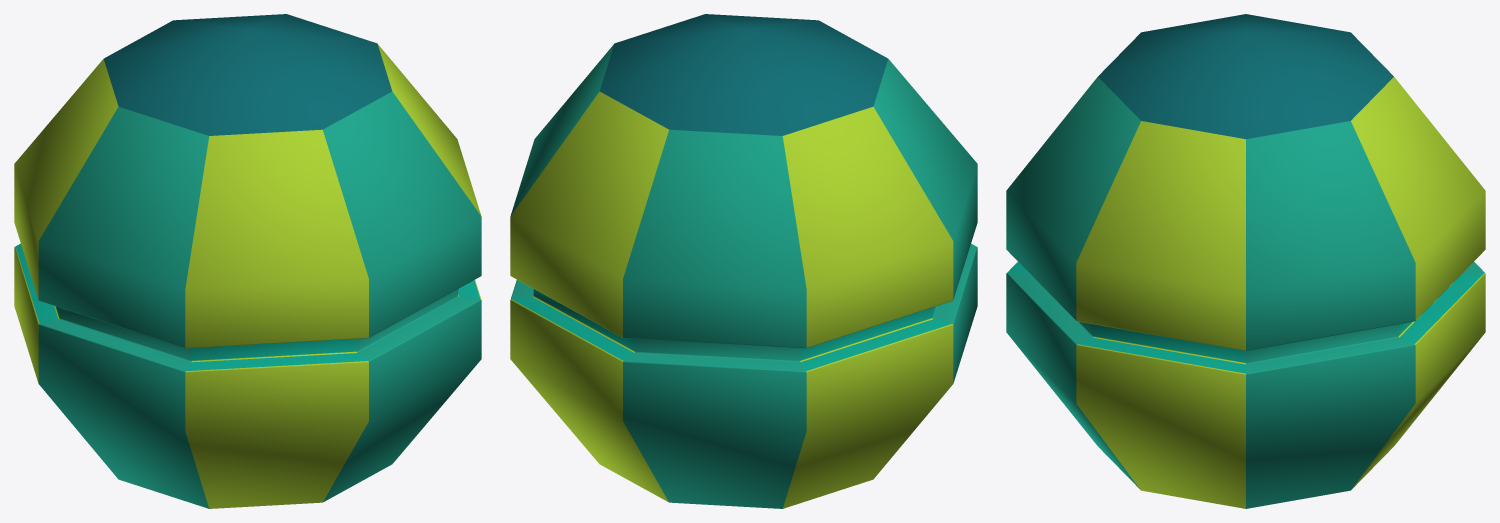
File: SM_Toy.fbx
The picture shows the model from 3 angles, left to right: view 1: azimuth 30°, elevation 25°; view 2: azimuth 150°, elevation 25°; view 3: azimuth 270°, elevation 25°; orthographic projection.
Visible parts, largest first — view 1: SM_Toy; view 2: SM_Toy; view 3: SM_Toy.
Part boxes in pixels (left/top/right/bottom): SM_Toy: left=14, top=14, right=481, bottom=508; SM_Toy: left=510, top=14, right=977, bottom=508; SM_Toy: left=1006, top=14, right=1485, bottom=508.
Bounding box in the file's own units: 14.12 × 14.12 × 14.85.
Materials: 1 (1 with a texture image).
